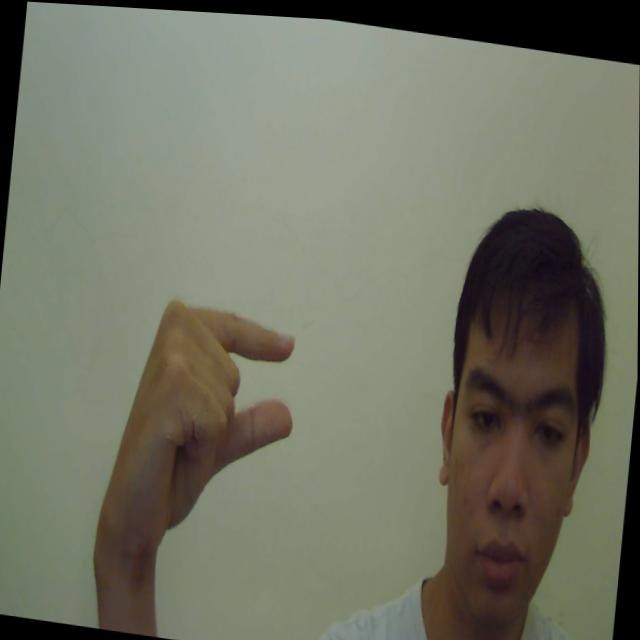G: (93, 286, 306, 573)
